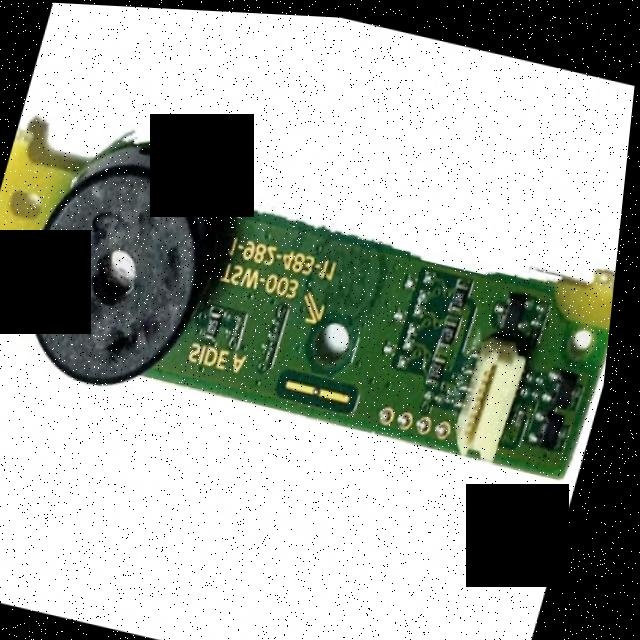4439: (493, 281, 542, 333), (548, 358, 589, 408), (536, 405, 575, 449)
buzzer: (0, 127, 239, 408)
connector -5v-: (459, 333, 535, 454)
resistor IR1: (429, 343, 457, 383), (206, 300, 231, 341), (444, 310, 467, 343), (454, 280, 472, 307)
